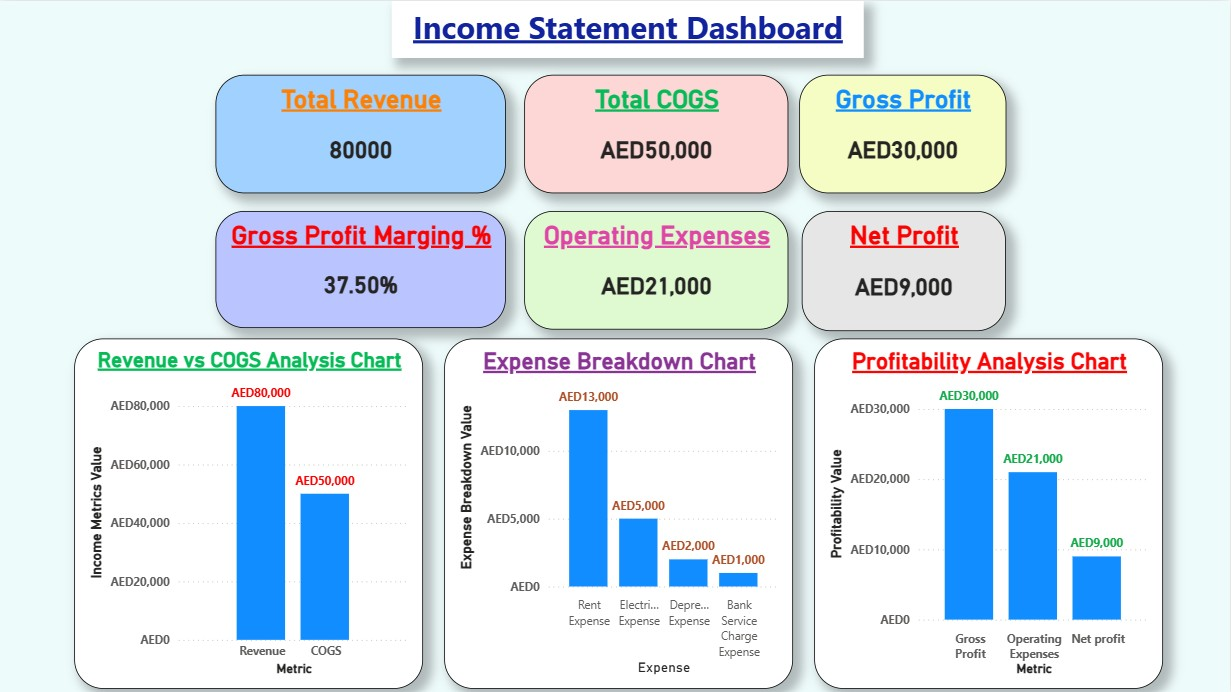

The dashboard page shown, as its layout file describes it:
{"tool":"powerbi","page":{"name":"Income Statement Dashboard","canvas":[1280,720],"ordinal":1},"visuals":[{"type":"textbox","box":[408.5,0,490.8,59.4],"z":0},{"type":"card","title":"Total Revenue","fields":{"Values":["Measures 1.Total Revenue"]},"box":[225.5,76.4,301.8,123.5],"z":1000},{"type":"card","title":"Total COGS","fields":{"Values":["Measures 1.Total COGS"]},"box":[547.1,76.4,274.4,123.5],"z":2000},{"type":"card","title":"Gross Profit","fields":{"Values":["Measures 1.Gross Profit"]},"box":[833.1,76.4,214.9,123.5],"z":3000},{"type":"card","title":"Gross Profit Marging %","fields":{"Values":["Measures 1.Gross Profit Margin %"]},"box":[225.5,218.2,301.8,121.9],"z":4000},{"type":"card","title":"Operating Expenses","fields":{"Values":["Measures 1.Operating Expenses"]},"box":[546.6,218.2,274.4,123.5],"z":5000},{"type":"card","title":"Net Profit","fields":{"Values":["Measures 1.Net Profit"]},"box":[834.7,218.2,211.9,125],"z":6000},{"type":"clusteredColumnChart","title":"Revenue vs COGS Analysis Chart","fields":{"Category":["Income Metrics.Metric"],"Y":["Measures 1.Income Metrics Value"]},"box":[7.6,350.2,362.8,364.3],"z":7000},{"type":"clusteredColumnChart","title":"Expense Breakdown Chart","fields":{"Category":["Expense Category.Expense"],"Y":["Measures 1.Expense Breakdown Value"]},"box":[391.7,350.2,362.8,364.3],"z":8000},{"type":"clusteredColumnChart","title":"Profitability Analysis Chart","fields":{"Y":["Measures 1.Profitability Value"],"Category":["Profitability Metrics.Metric"]},"box":[775.8,350.2,362.8,364.3],"z":9000}]}

Visuals, with their boxes in screenshot pixels (x1, y1, x2, y2), scaled from the page's 1280x720 canvas onto the 1231x692 screenshot:
textbox: crop(393, 0, 865, 57)
"Total Revenue" card: crop(217, 73, 507, 192)
"Total COGS" card: crop(526, 73, 790, 192)
"Gross Profit" card: crop(801, 73, 1008, 192)
"Gross Profit Marging %" card: crop(217, 210, 507, 327)
"Operating Expenses" card: crop(526, 210, 790, 328)
"Net Profit" card: crop(803, 210, 1007, 330)
"Revenue vs COGS Analysis Chart" clusteredColumnChart: crop(7, 337, 356, 687)
"Expense Breakdown Chart" clusteredColumnChart: crop(377, 337, 726, 687)
"Profitability Analysis Chart" clusteredColumnChart: crop(746, 337, 1095, 687)
